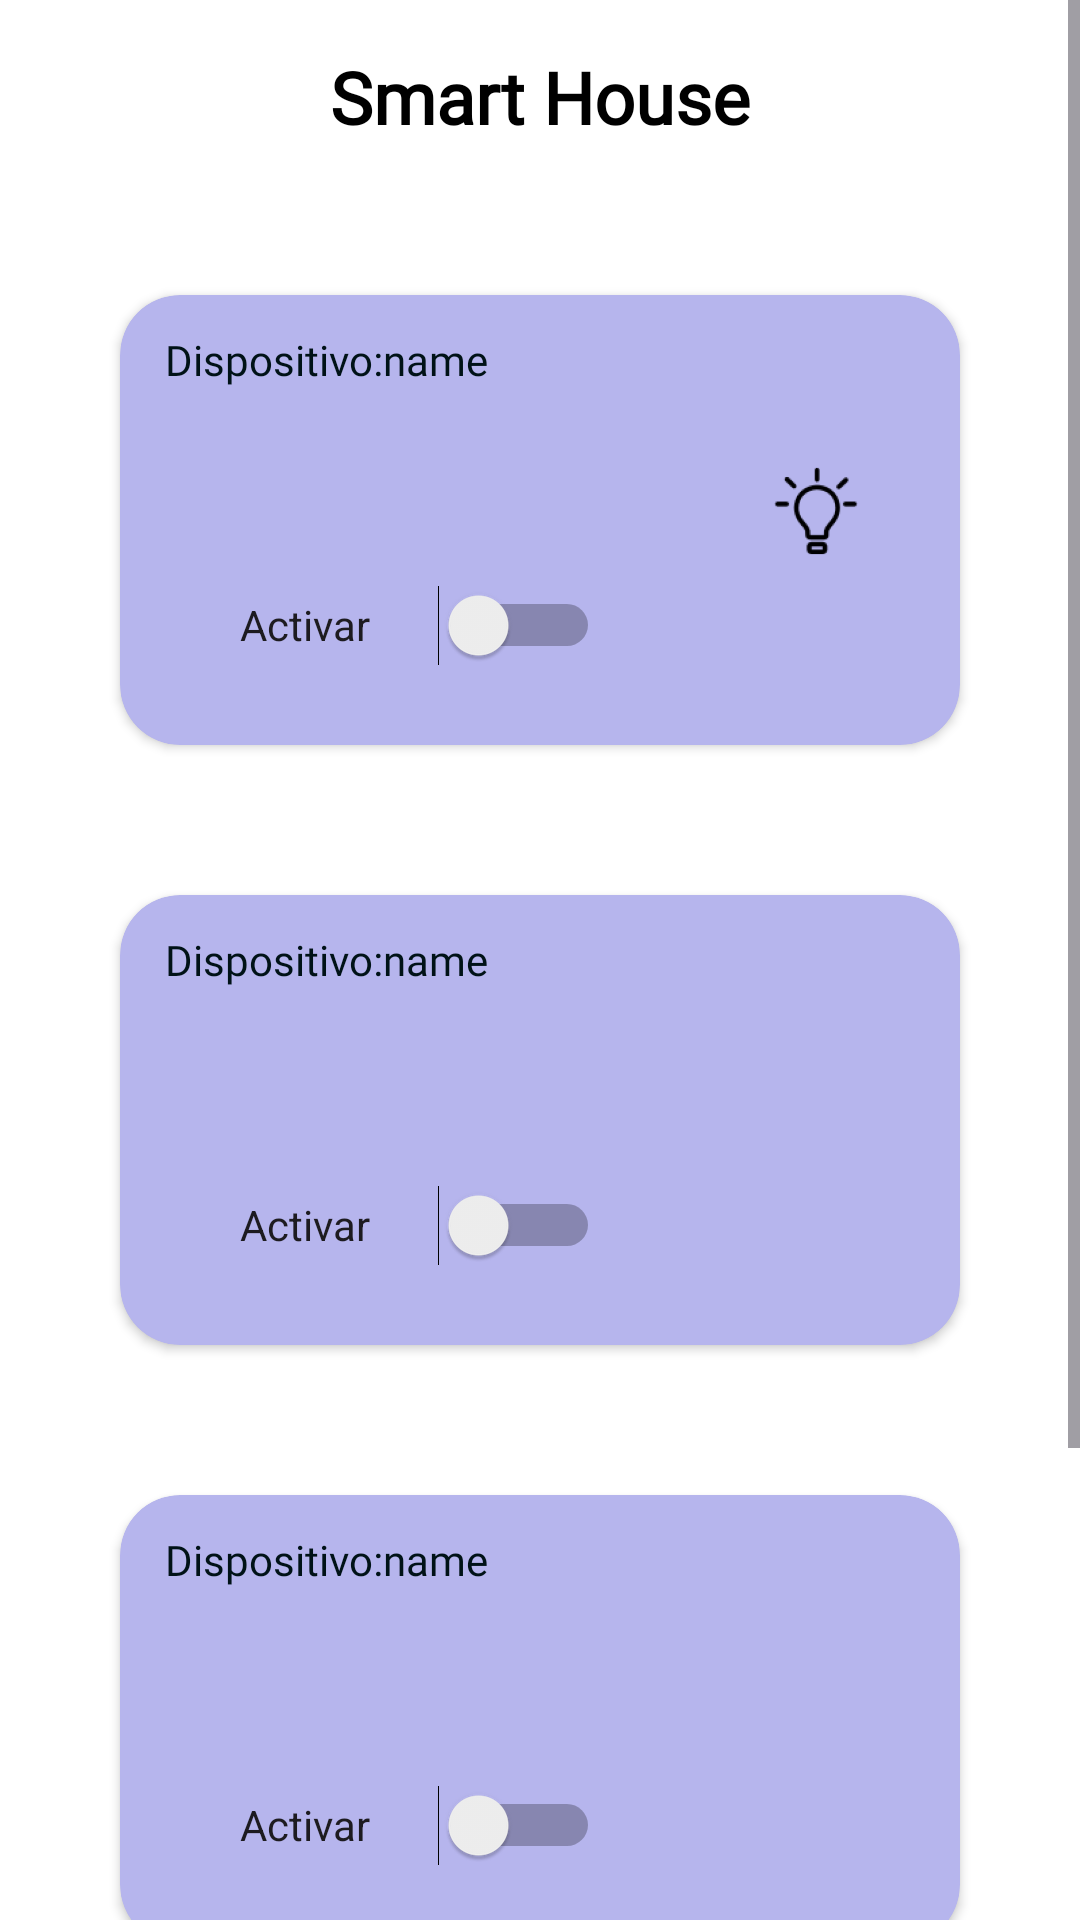

Where to tap for icons on this 1080x1920 app screen, as (x,y):
luces: (816,511)
